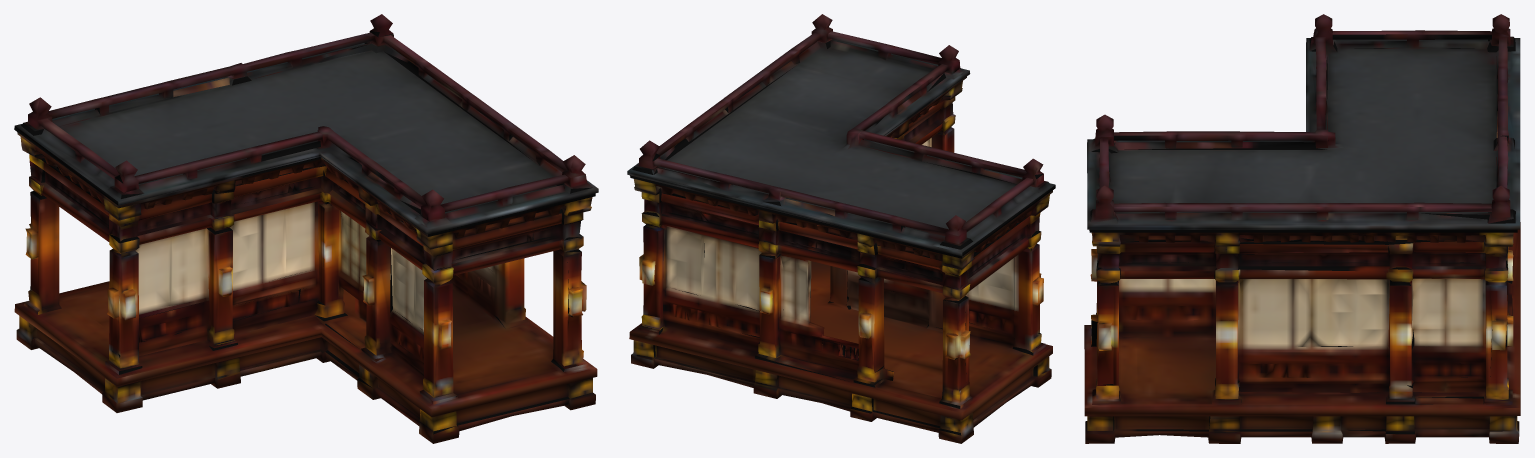
The model's file is HallWayWithTurnFixed_LOD2.fbx.
3 views of the same model, side by side, from view 1: azimuth 30°, elevation 25°; view 2: azimuth 150°, elevation 25°; view 3: azimuth 270°, elevation 25° (orthographic). The views are drawn at different scales.
Parts seen in each view (by area): view 1: node_0.001; view 2: node_0.001; view 3: node_0.001.
Part boxes in pixels (bbox=[...]): node_0.001: bbox=[14, 14, 598, 443]; node_0.001: bbox=[627, 14, 1055, 443]; node_0.001: bbox=[1084, 14, 1520, 443].
Size of the model in its own units: 78.74 by 49.48 by 77.31.
Materials: 1 (1 with a texture image).
